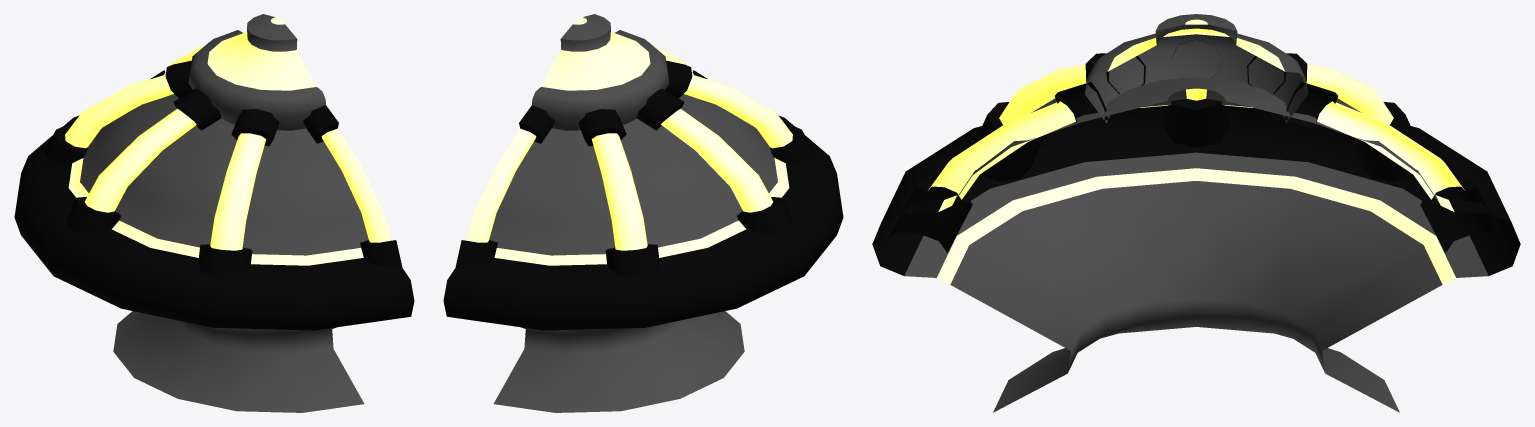
Rendered from mesh_Factory_Trap_MovingWall_End.fbx.
3 views of the same model, side by side, from view 1: azimuth 30°, elevation 25°; view 2: azimuth 150°, elevation 25°; view 3: azimuth 270°, elevation 25° (orthographic). The views are drawn at different scales.
Parts seen in each view (by area): view 1: mesh_Factory_Trap_MovingWall_End; view 2: mesh_Factory_Trap_MovingWall_End; view 3: mesh_Factory_Trap_MovingWall_End.
Boxes of the visible parts, left/top/right/bottom form: mesh_Factory_Trap_MovingWall_End: left=14, top=14, right=414, bottom=412; mesh_Factory_Trap_MovingWall_End: left=443, top=14, right=843, bottom=412; mesh_Factory_Trap_MovingWall_End: left=872, top=14, right=1520, bottom=412.
Bounding box in the file's own units: 1.48 × 1.95 × 2.96.
